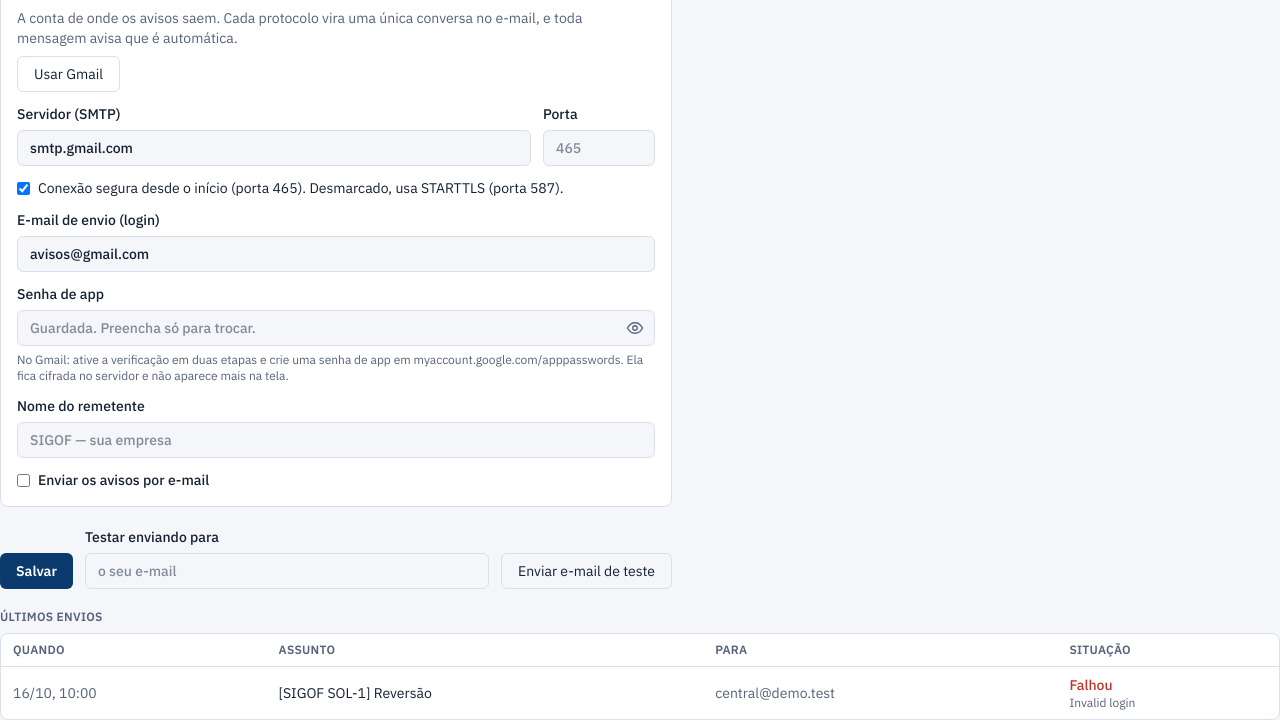
Test case: aba E-mail da administração › testa o envio e mostra a recusa do servidor; lista os envios
(page scrolled)
Expected: the text "Falhou" is shown, [1069,676,1113,694]
Expected: the text "Invalid login" is shown, [1069,695,1135,710]
Click the button "Enviar e-mail de teste": {"x": 586, "y": 571} [501,553,672,589]
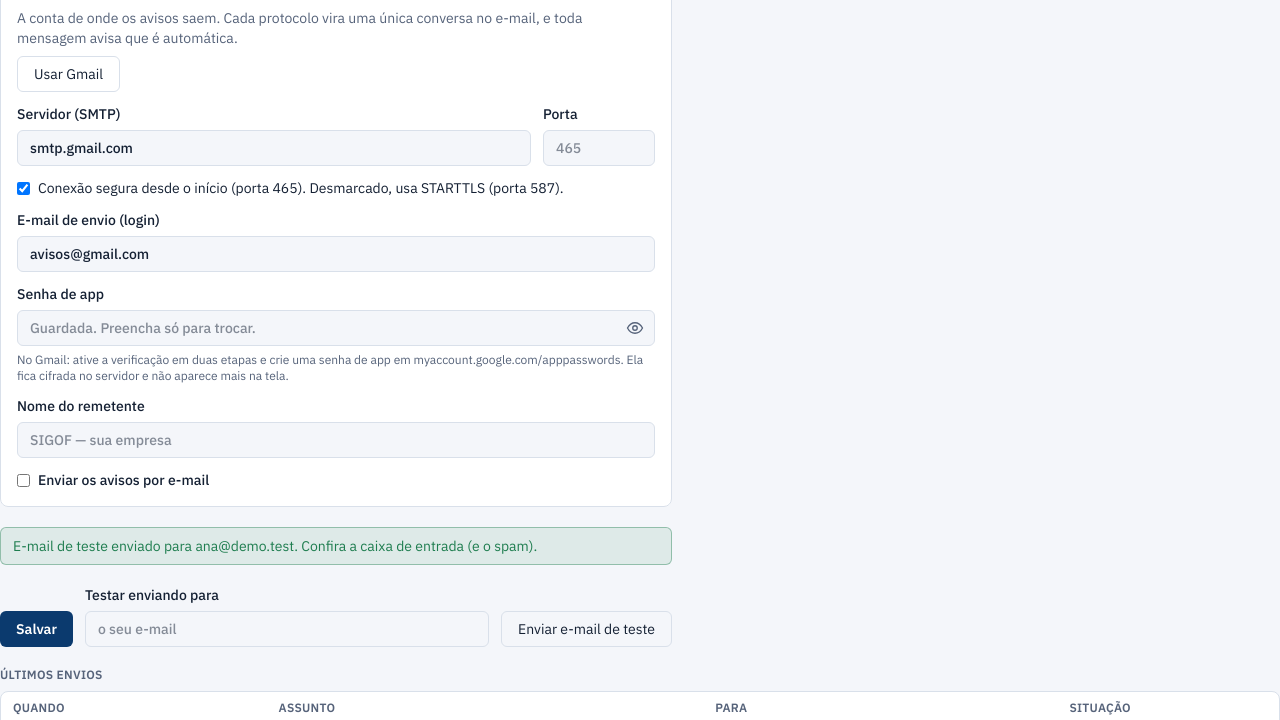
Now the text "enviado para ana@demo.test" is shown, box [13,537,537,555]
In the field labelled "Testar enviando para": {"x": 287, "y": 629} [85,611,489,647], type "x@demo.test"
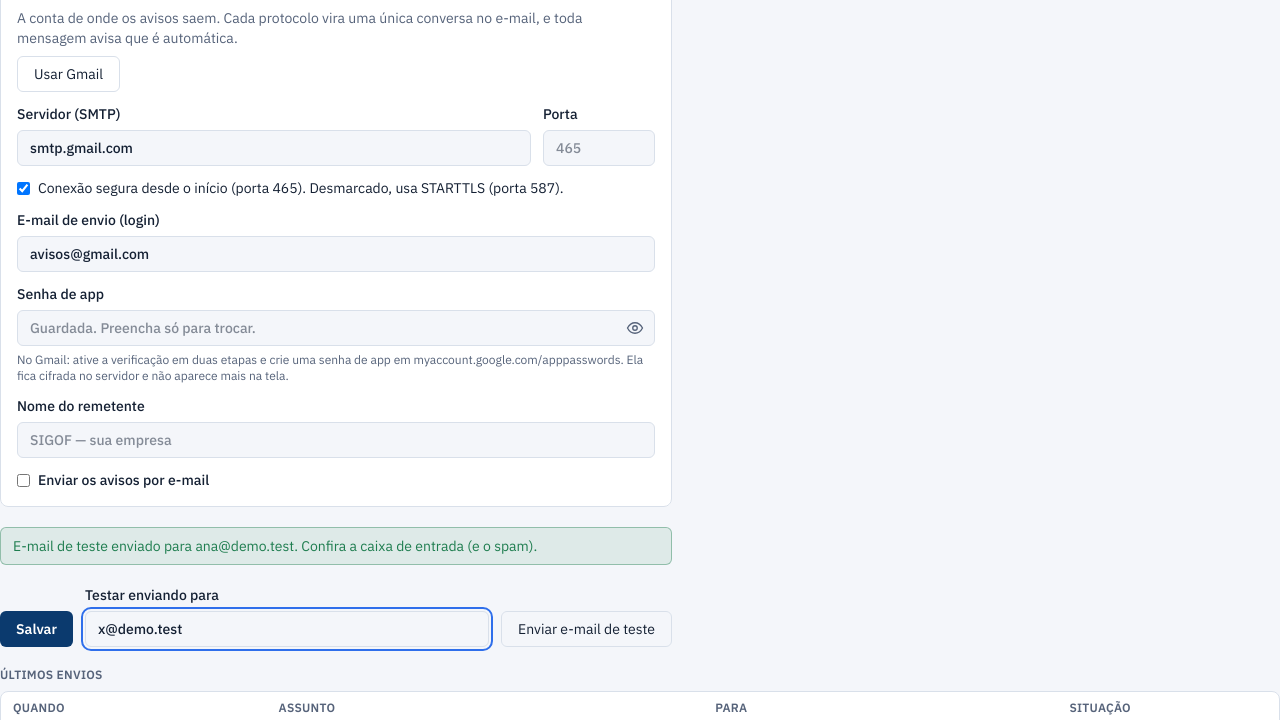
Click the button "Enviar e-mail de teste": {"x": 586, "y": 629} [501,611,672,647]
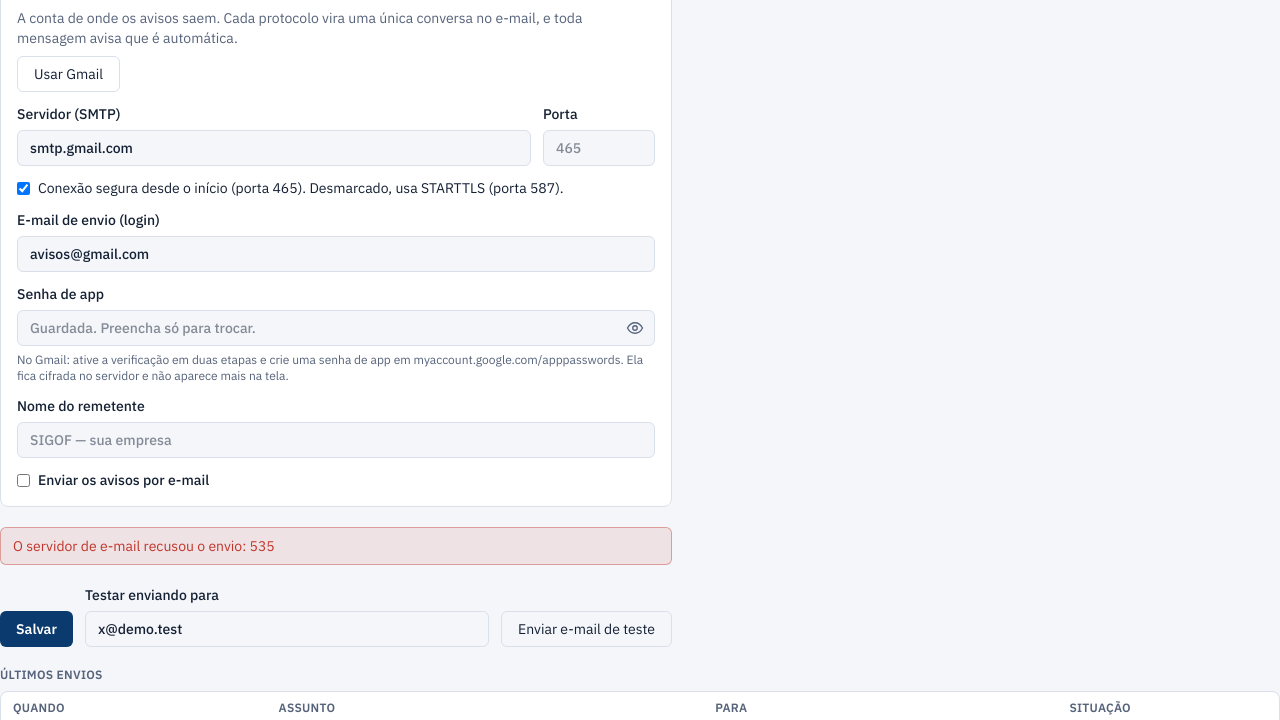
Now the text "O servidor de e-mail recusou o envio: 535" is shown, box [0,527,672,565]
